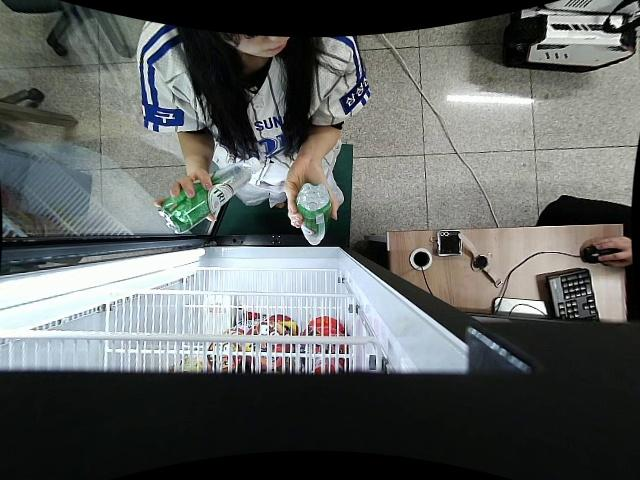00_hand: (283, 159, 340, 228), (156, 169, 216, 223)
18_trevi: (159, 157, 261, 235), (292, 180, 334, 248)
